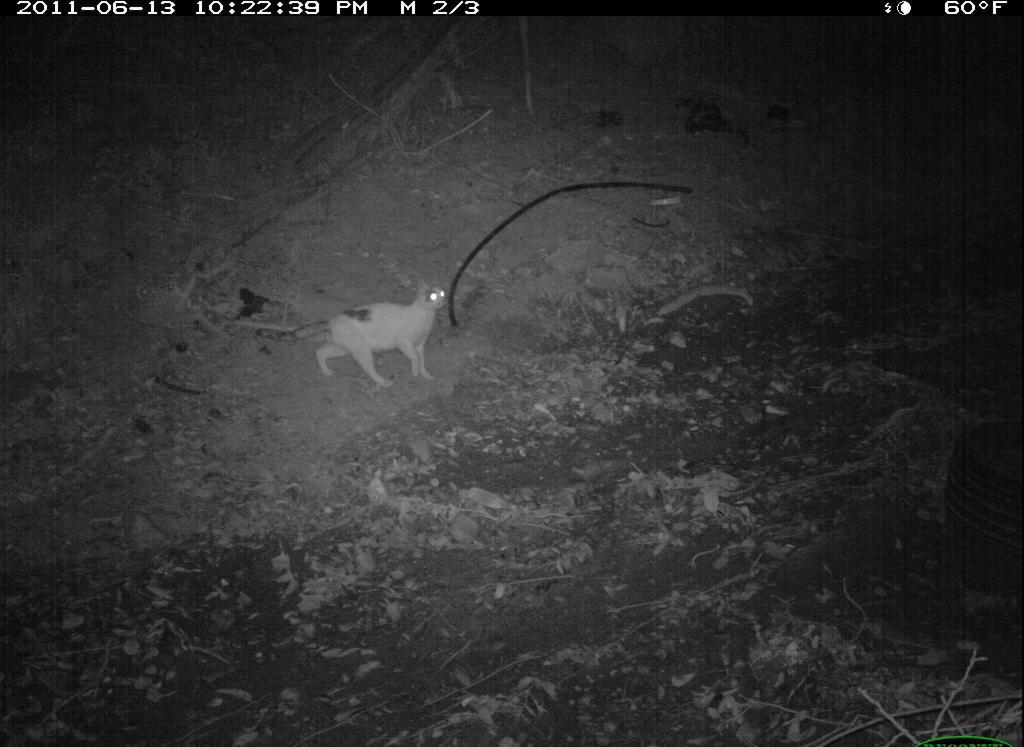cat: (278, 281, 456, 390)
